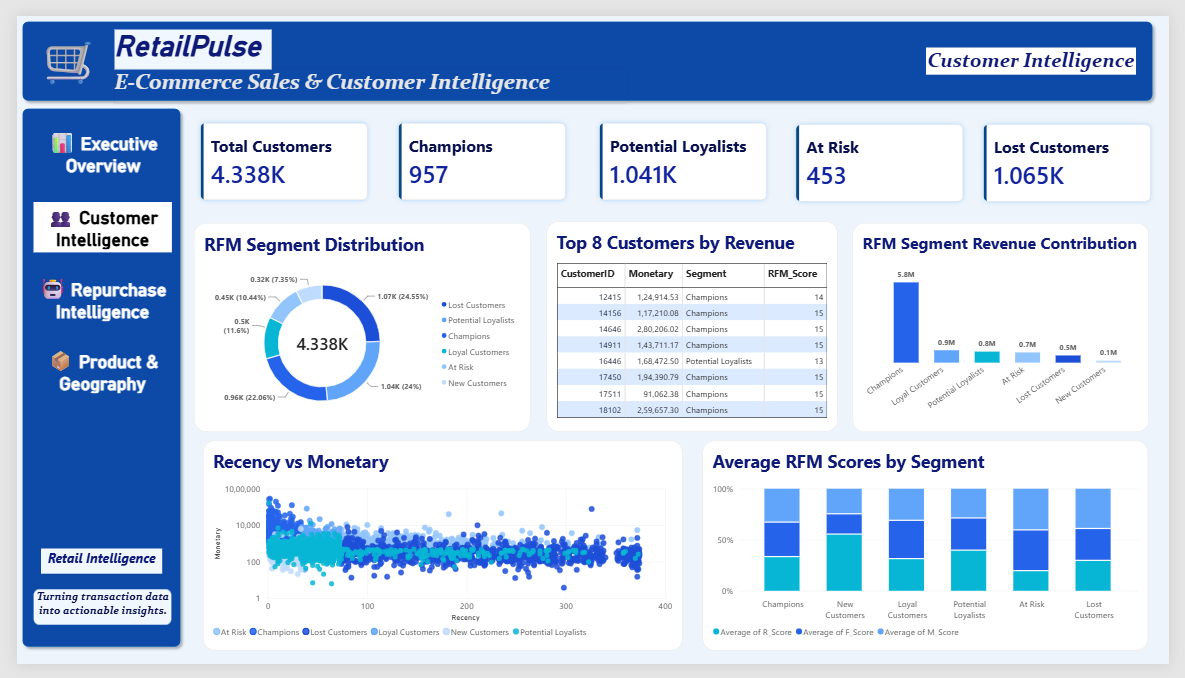

The page's visual inventory and layout, read from the dashboard file:
{"tool":"powerbi","page":{"name":"Page 2","canvas":[1920,1080],"ordinal":1},"visuals":[{"type":"shape","box":[0,144,281.5,915.3],"z":0},{"type":"textbox","title":"👥 Customer Intelligence","box":[27.9,309.4,230.6,106.2],"z":1000},{"type":"textbox","title":"📊 Executive Overview ","box":[27.5,187.5,232.5,122.5],"z":2000},{"type":"textbox","title":"🤖 Repurchase Intelligence","box":[27.5,430,230.6,110.6],"z":3000},{"type":"textbox","title":"📦 Product & Geography","box":[27.5,550,230.6,111.2],"z":4000},{"type":"cardVisual","fields":{"Data":["Count(customer_rfm.CustomerID)"]},"box":[294.4,167.6,300,150],"z":5000},{"type":"cardVisual","fields":{"Data":["Count(customer_rfm.CustomerID)"]},"box":[625.2,167.6,300,150],"z":6000},{"type":"cardVisual","fields":{"Data":["Count(customer_rfm.CustomerID)"]},"box":[961.2,167.6,300,150],"z":7000},{"type":"cardVisual","fields":{"Data":["Count(customer_rfm.CustomerID)"]},"box":[1287,169.7,300,150],"z":8000},{"type":"cardVisual","fields":{"Data":["Count(customer_rfm.CustomerID)"]},"box":[1600,170,300,150],"z":9000},{"type":"donutChart","title":"RFM Segment Distribution","fields":{"Category":["customer_rfm.Segment"],"Y":["CountNonNull(customer_rfm.CustomerID)"]},"box":[294.4,343.8,560.8,348.1],"z":10000},{"type":"clusteredColumnChart","title":"RFM Segment Revenue Contribution","fields":{"Category":["customer_rfm.Segment"],"Y":["Sum(customer_rfm.Monetary)"]},"box":[1392.3,343.8,494.2,348.1],"z":11000},{"type":"hundredPercentStackedColumnChart","title":"Average RFM Scores by Segment","fields":{"Category":["customer_rfm.Segment"],"Y":["Avg(customer_rfm.R_Score)","Avg(customer_rfm.F_Score)","Avg(customer_rfm.M_Score)"]},"box":[1142.5,708.6,742.7,349.8],"z":12000},{"type":"scatterChart","title":"Recency vs Monetary","fields":{"Series":["customer_rfm.Segment"],"X":["customer_rfm.Recency"],"Y":["customer_rfm.Monetary"]},"box":[311.2,708.6,799.5,349.8],"z":13000},{"type":"tableEx","title":"Top 8 Customers by Revenue","fields":{"Values":["customer_rfm.CustomerID","customer_rfm.Monetary","customer_rfm.Segment","customer_rfm.RFM_Score"]},"box":[883.1,341.6,485.6,350.2],"z":14000},{"type":"shape","box":[0,0,1901.5,150.4],"z":15000},{"type":"textbox","title":"🛒","box":[15,22.5,140,127.5],"z":16000},{"type":"textbox","title":"RetailPulse","box":[163.3,21.5,262.1,66.6],"z":17000},{"type":"textbox","title":"E-Commerce Sales & Customer Intelligence","box":[162.5,87.5,854.2,57.3],"z":18000},{"type":"textbox","title":"Customer Intelligence","box":[1514.8,51.6,350.2,45.1],"z":19000},{"type":"textbox","title":"Retail Intelligence","box":[40.8,887.4,202.2,42.2],"z":20000},{"type":"textbox","title":"Turning transaction data into actionable insights.","box":[27.9,954,229.9,60.2],"z":21000}]}

Visuals, with their boxes in screenshot pixels (x1, y1, x2, y2), scaled from the page's 1920x1080 canvas onto the 1185x678 screenshot:
shape: [0,90,174,665]
"👥 Customer Intelligence" textbox: [17,194,160,261]
"📊 Executive Overview " textbox: [17,118,160,195]
"🤖 Repurchase Intelligence" textbox: [17,270,159,339]
"📦 Product & Geography" textbox: [17,345,159,415]
cardVisual - Count(customer_rfm.CustomerID): [182,105,367,199]
cardVisual - Count(customer_rfm.CustomerID): [386,105,571,199]
cardVisual - Count(customer_rfm.CustomerID): [593,105,778,199]
cardVisual - Count(customer_rfm.CustomerID): [794,107,979,201]
cardVisual - Count(customer_rfm.CustomerID): [988,107,1173,201]
"RFM Segment Distribution" donutChart: [182,216,528,434]
"RFM Segment Revenue Contribution" clusteredColumnChart: [859,216,1164,434]
"Average RFM Scores by Segment" hundredPercentStackedColumnChart: [705,445,1164,664]
"Recency vs Monetary" scatterChart: [192,445,686,664]
"Top 8 Customers by Revenue" tableEx: [545,214,845,434]
shape: [0,0,1174,94]
"🛒" textbox: [9,14,96,94]
"RetailPulse" textbox: [101,13,263,55]
"E-Commerce Sales & Customer Intelligence" textbox: [100,55,627,91]
"Customer Intelligence" textbox: [935,32,1151,61]
"Retail Intelligence" textbox: [25,557,150,584]
"Turning transaction data into actionable insights." textbox: [17,599,159,637]
